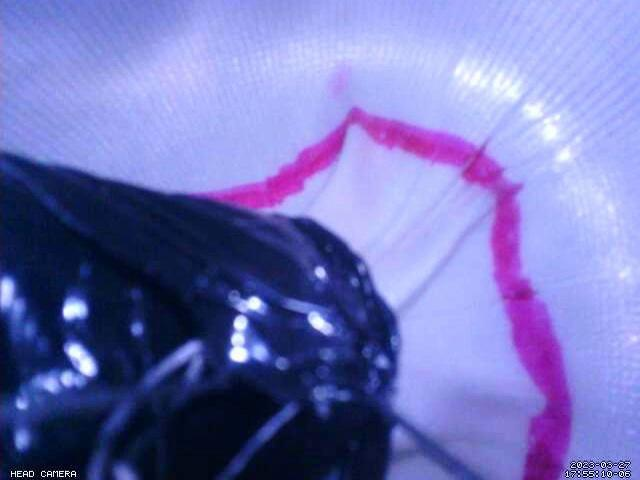red-circle: (196, 105, 574, 480)
